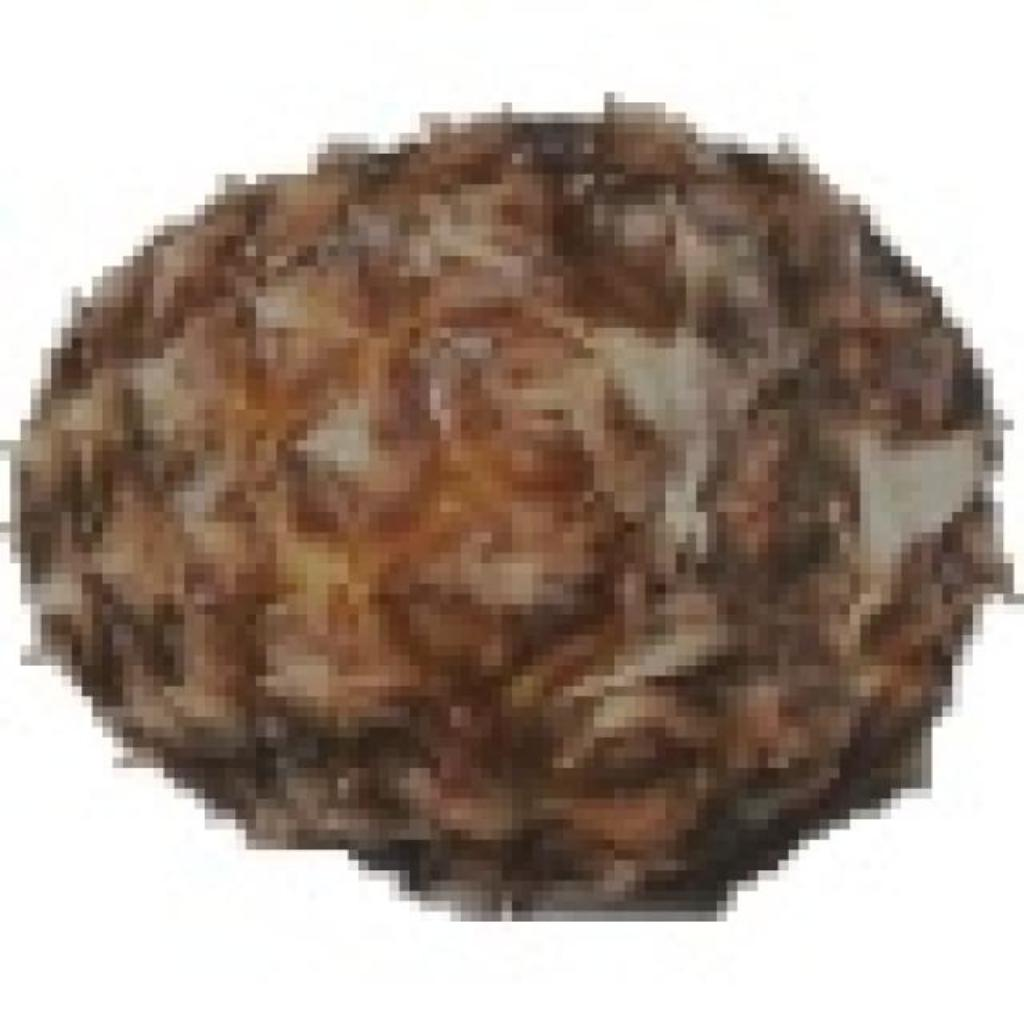pineapple: (10, 92, 983, 891)
